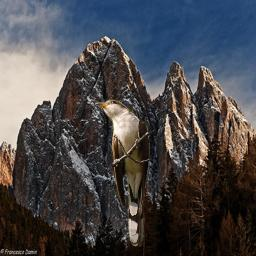Cuckoo: (95, 99, 150, 247)
